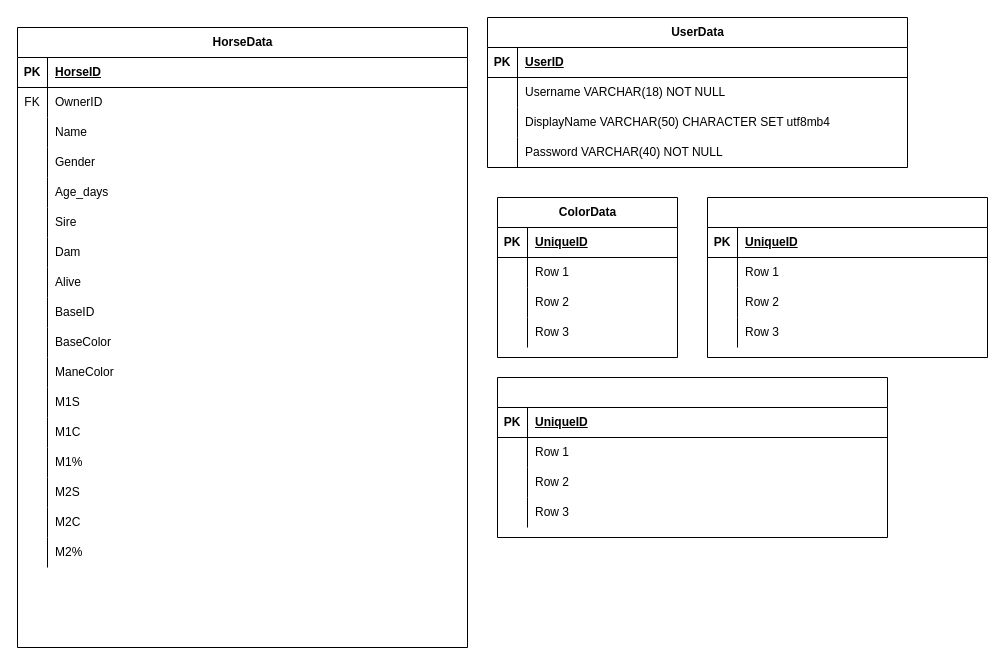
This 1005x665 diagram has some shape labels left out. Each missing label, with the box of its shape:
BaseData: (496, 376, 888, 538)
MarkingData: (706, 196, 988, 358)
